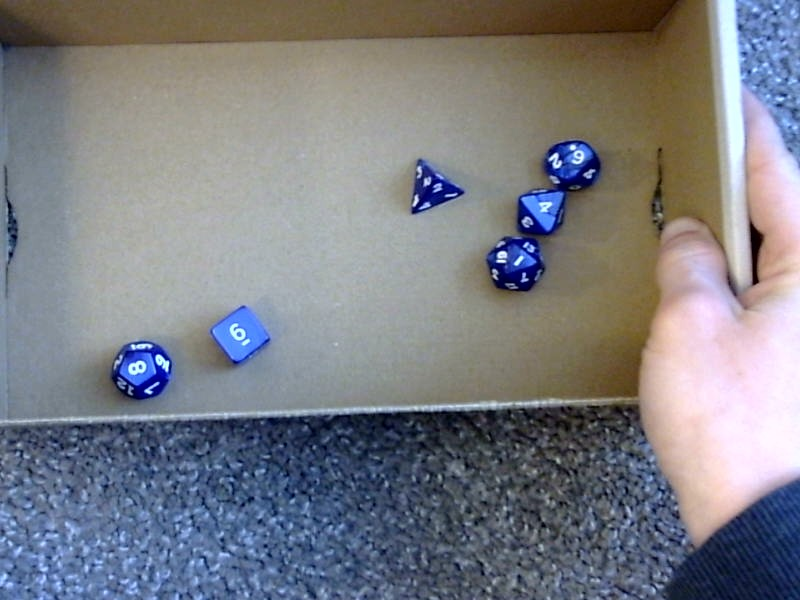d10 6: (540, 137, 604, 191)
d12 8: (103, 332, 174, 403)
d20 1: (480, 232, 547, 294)
d4 2: (405, 154, 469, 218)
d6 6: (202, 301, 272, 366)
d8 4: (513, 188, 565, 237)
